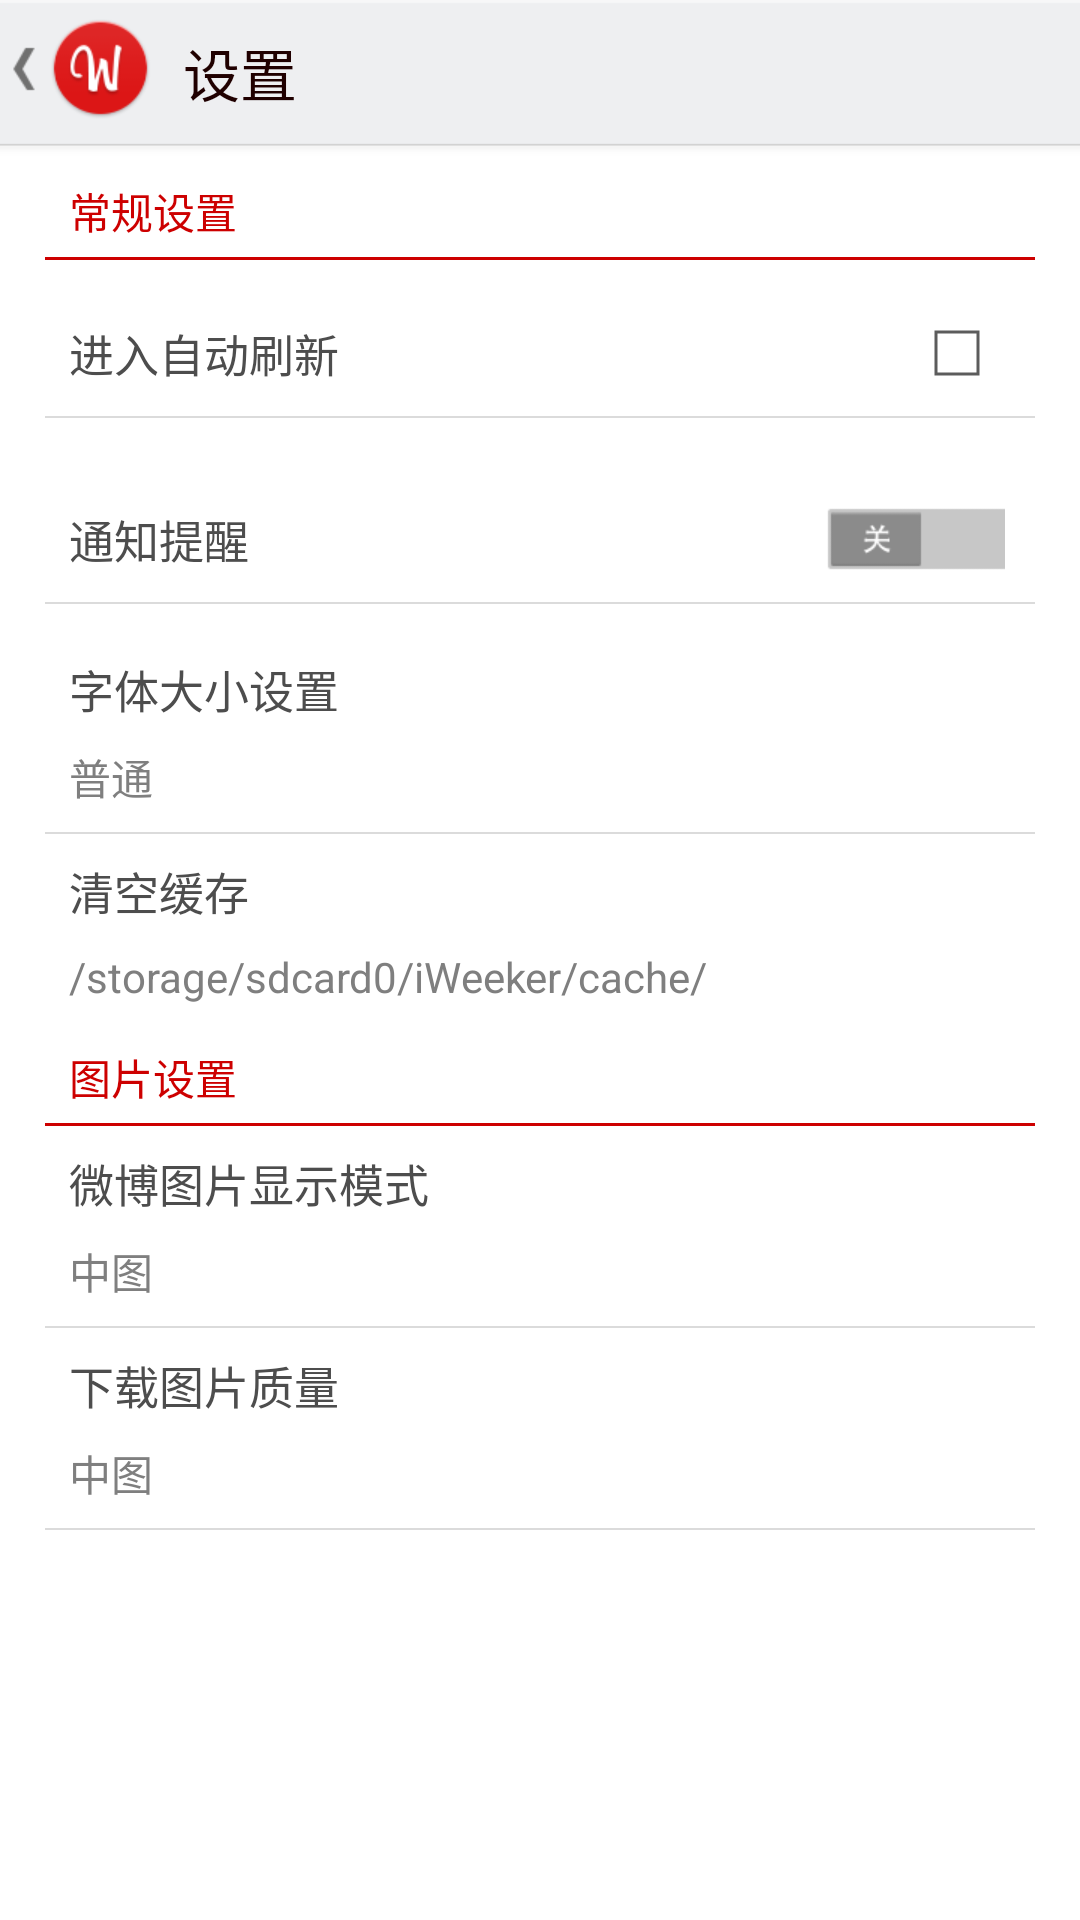

Icons on this 1080×1920 Android screen, each with its box as rect(x1, y1, x2, y2):
activity back: rect(13, 48, 35, 90)
